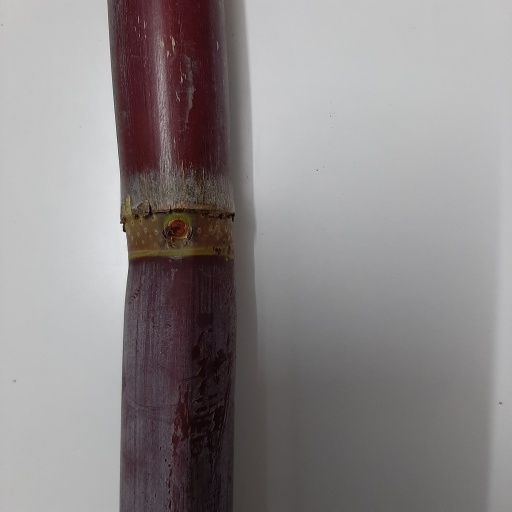Damage_Bud: (166, 217, 189, 242)
